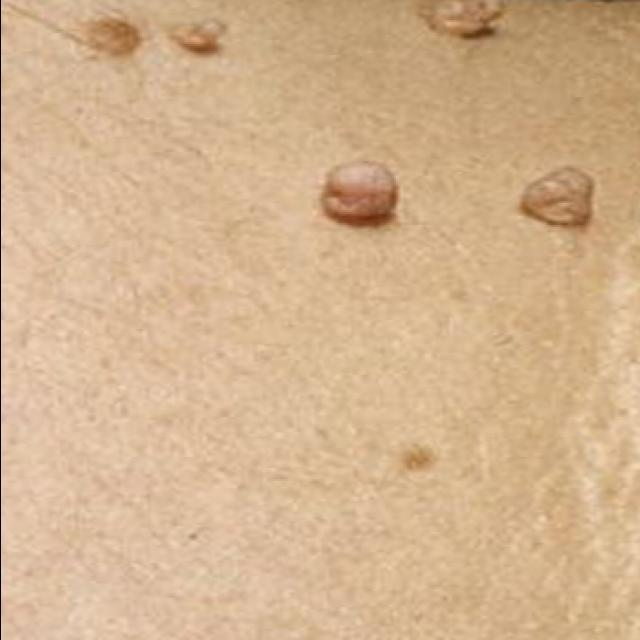wart: (322, 161, 397, 227), (521, 170, 596, 228), (414, 0, 508, 40), (160, 16, 232, 58)
